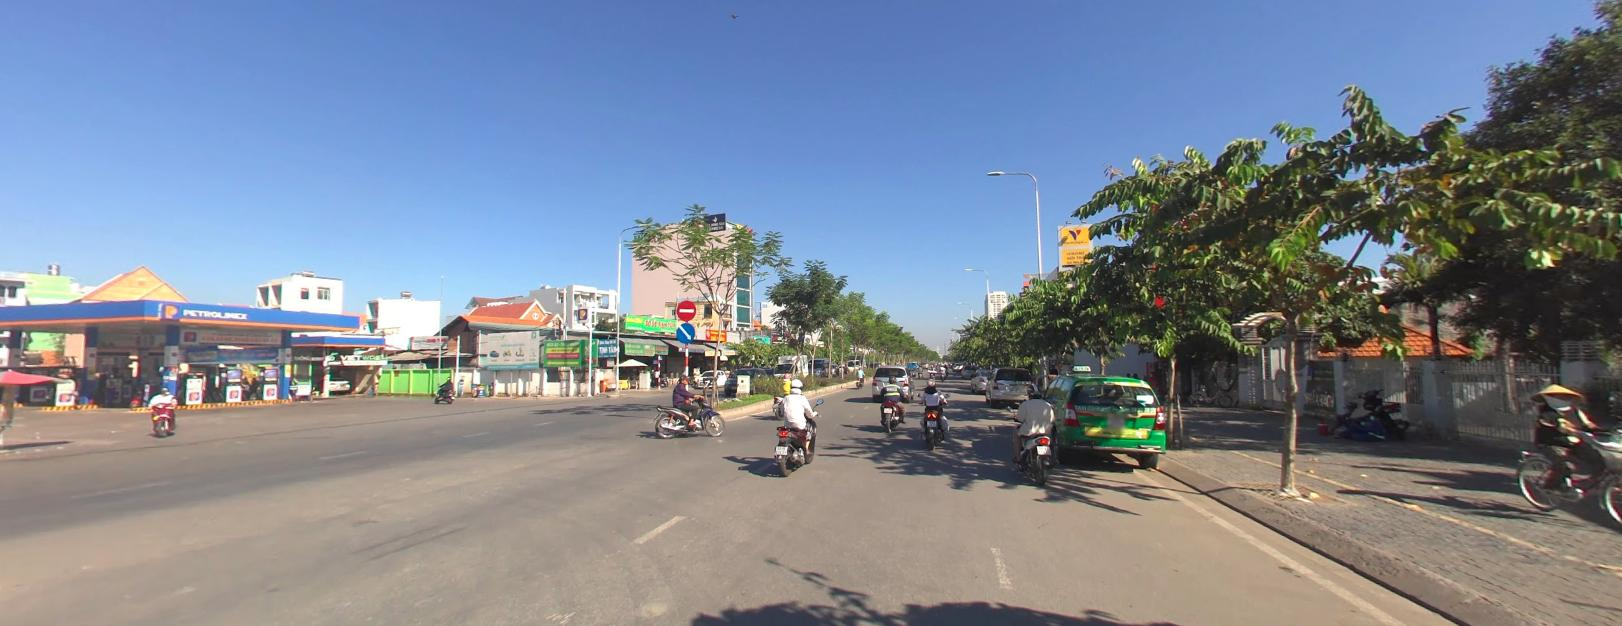Cam nguoc chieu: (675, 298, 696, 319)
Hieu lenh: (675, 321, 696, 342)
